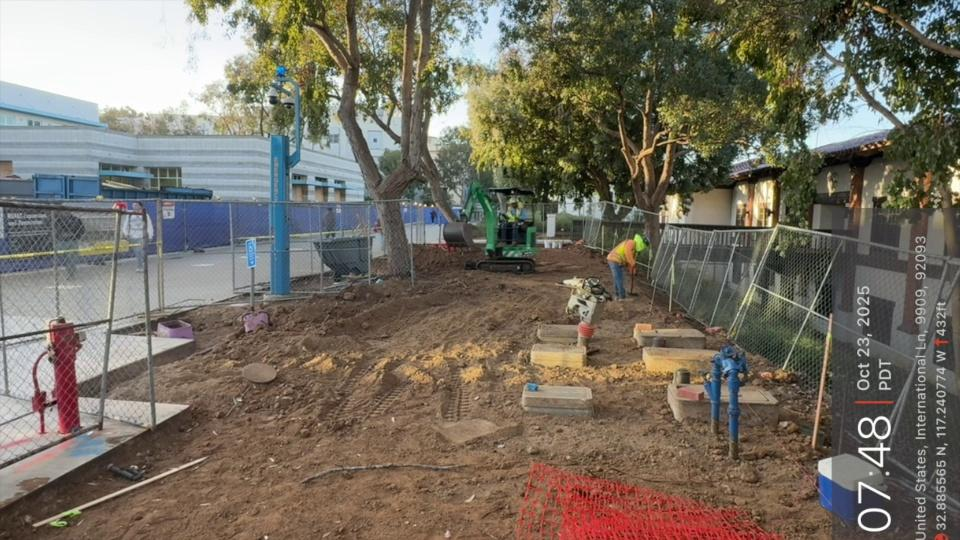Exacavator: (451, 180, 539, 274)
